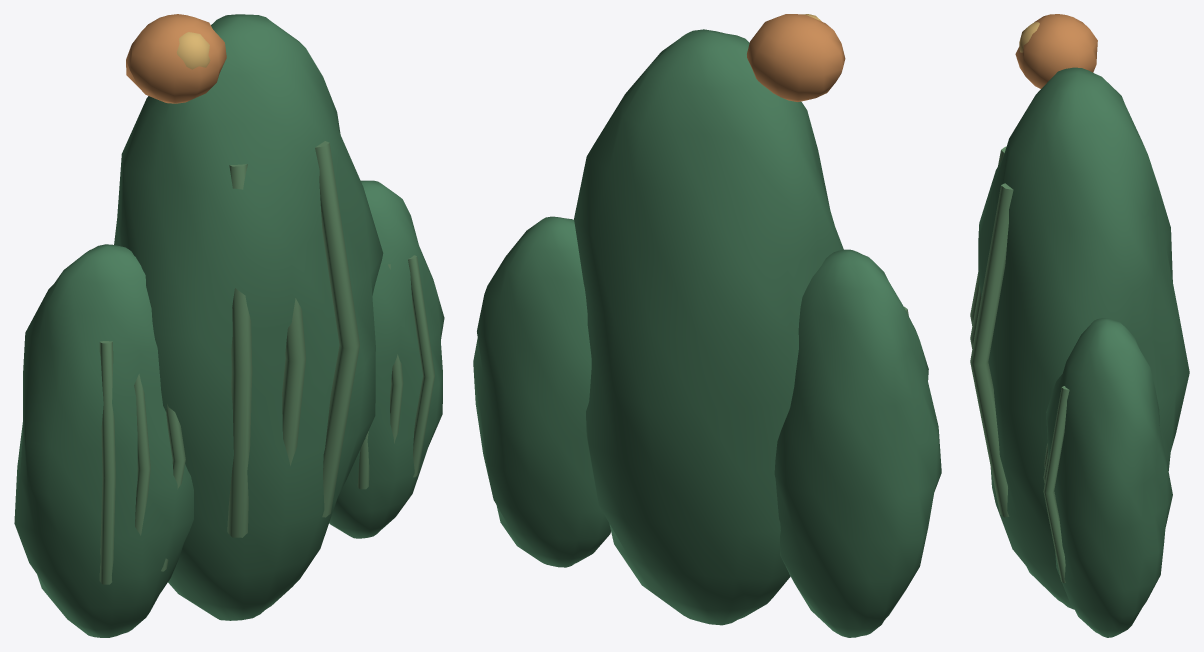
File: cactus.glb
The picture shows the model from 3 angles, left to right: view 1: azimuth 30°, elevation 25°; view 2: azimuth 150°, elevation 25°; view 3: azimuth 270°, elevation 25°; orthographic projection. The views are drawn at different scales.
Parts seen in each view (by area): view 1: Cactus; view 2: Cactus; view 3: Cactus.
Part boxes in pixels (box(x1,y1,x2,y2)): Cactus: box(14, 14, 444, 637); Cactus: box(473, 14, 941, 637); Cactus: box(970, 14, 1189, 637).
Size of the model in its own units: 0.9437 by 1.27 by 0.4576.
